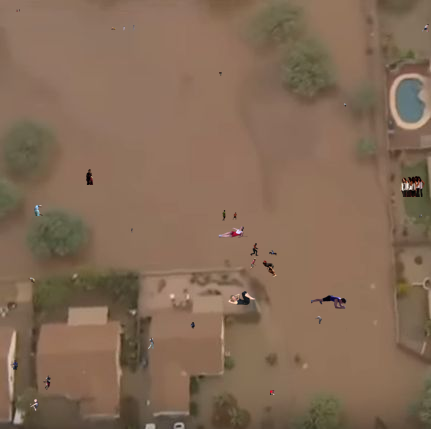Human: (249, 258, 277, 277), (400, 176, 425, 197), (311, 295, 347, 309), (228, 291, 256, 305), (218, 226, 248, 238), (25, 395, 39, 412), (222, 210, 237, 221), (86, 169, 94, 185), (43, 375, 51, 390), (250, 243, 259, 256), (34, 205, 43, 216), (10, 360, 18, 370), (313, 316, 322, 324), (123, 25, 135, 31), (148, 337, 154, 349), (269, 250, 278, 257), (422, 24, 429, 32), (28, 277, 35, 283), (190, 322, 195, 329), (270, 390, 275, 395), (111, 27, 116, 30), (344, 103, 347, 107), (346, 328, 348, 334), (16, 9, 20, 12), (419, 214, 422, 218), (219, 72, 222, 76), (131, 228, 133, 233)
